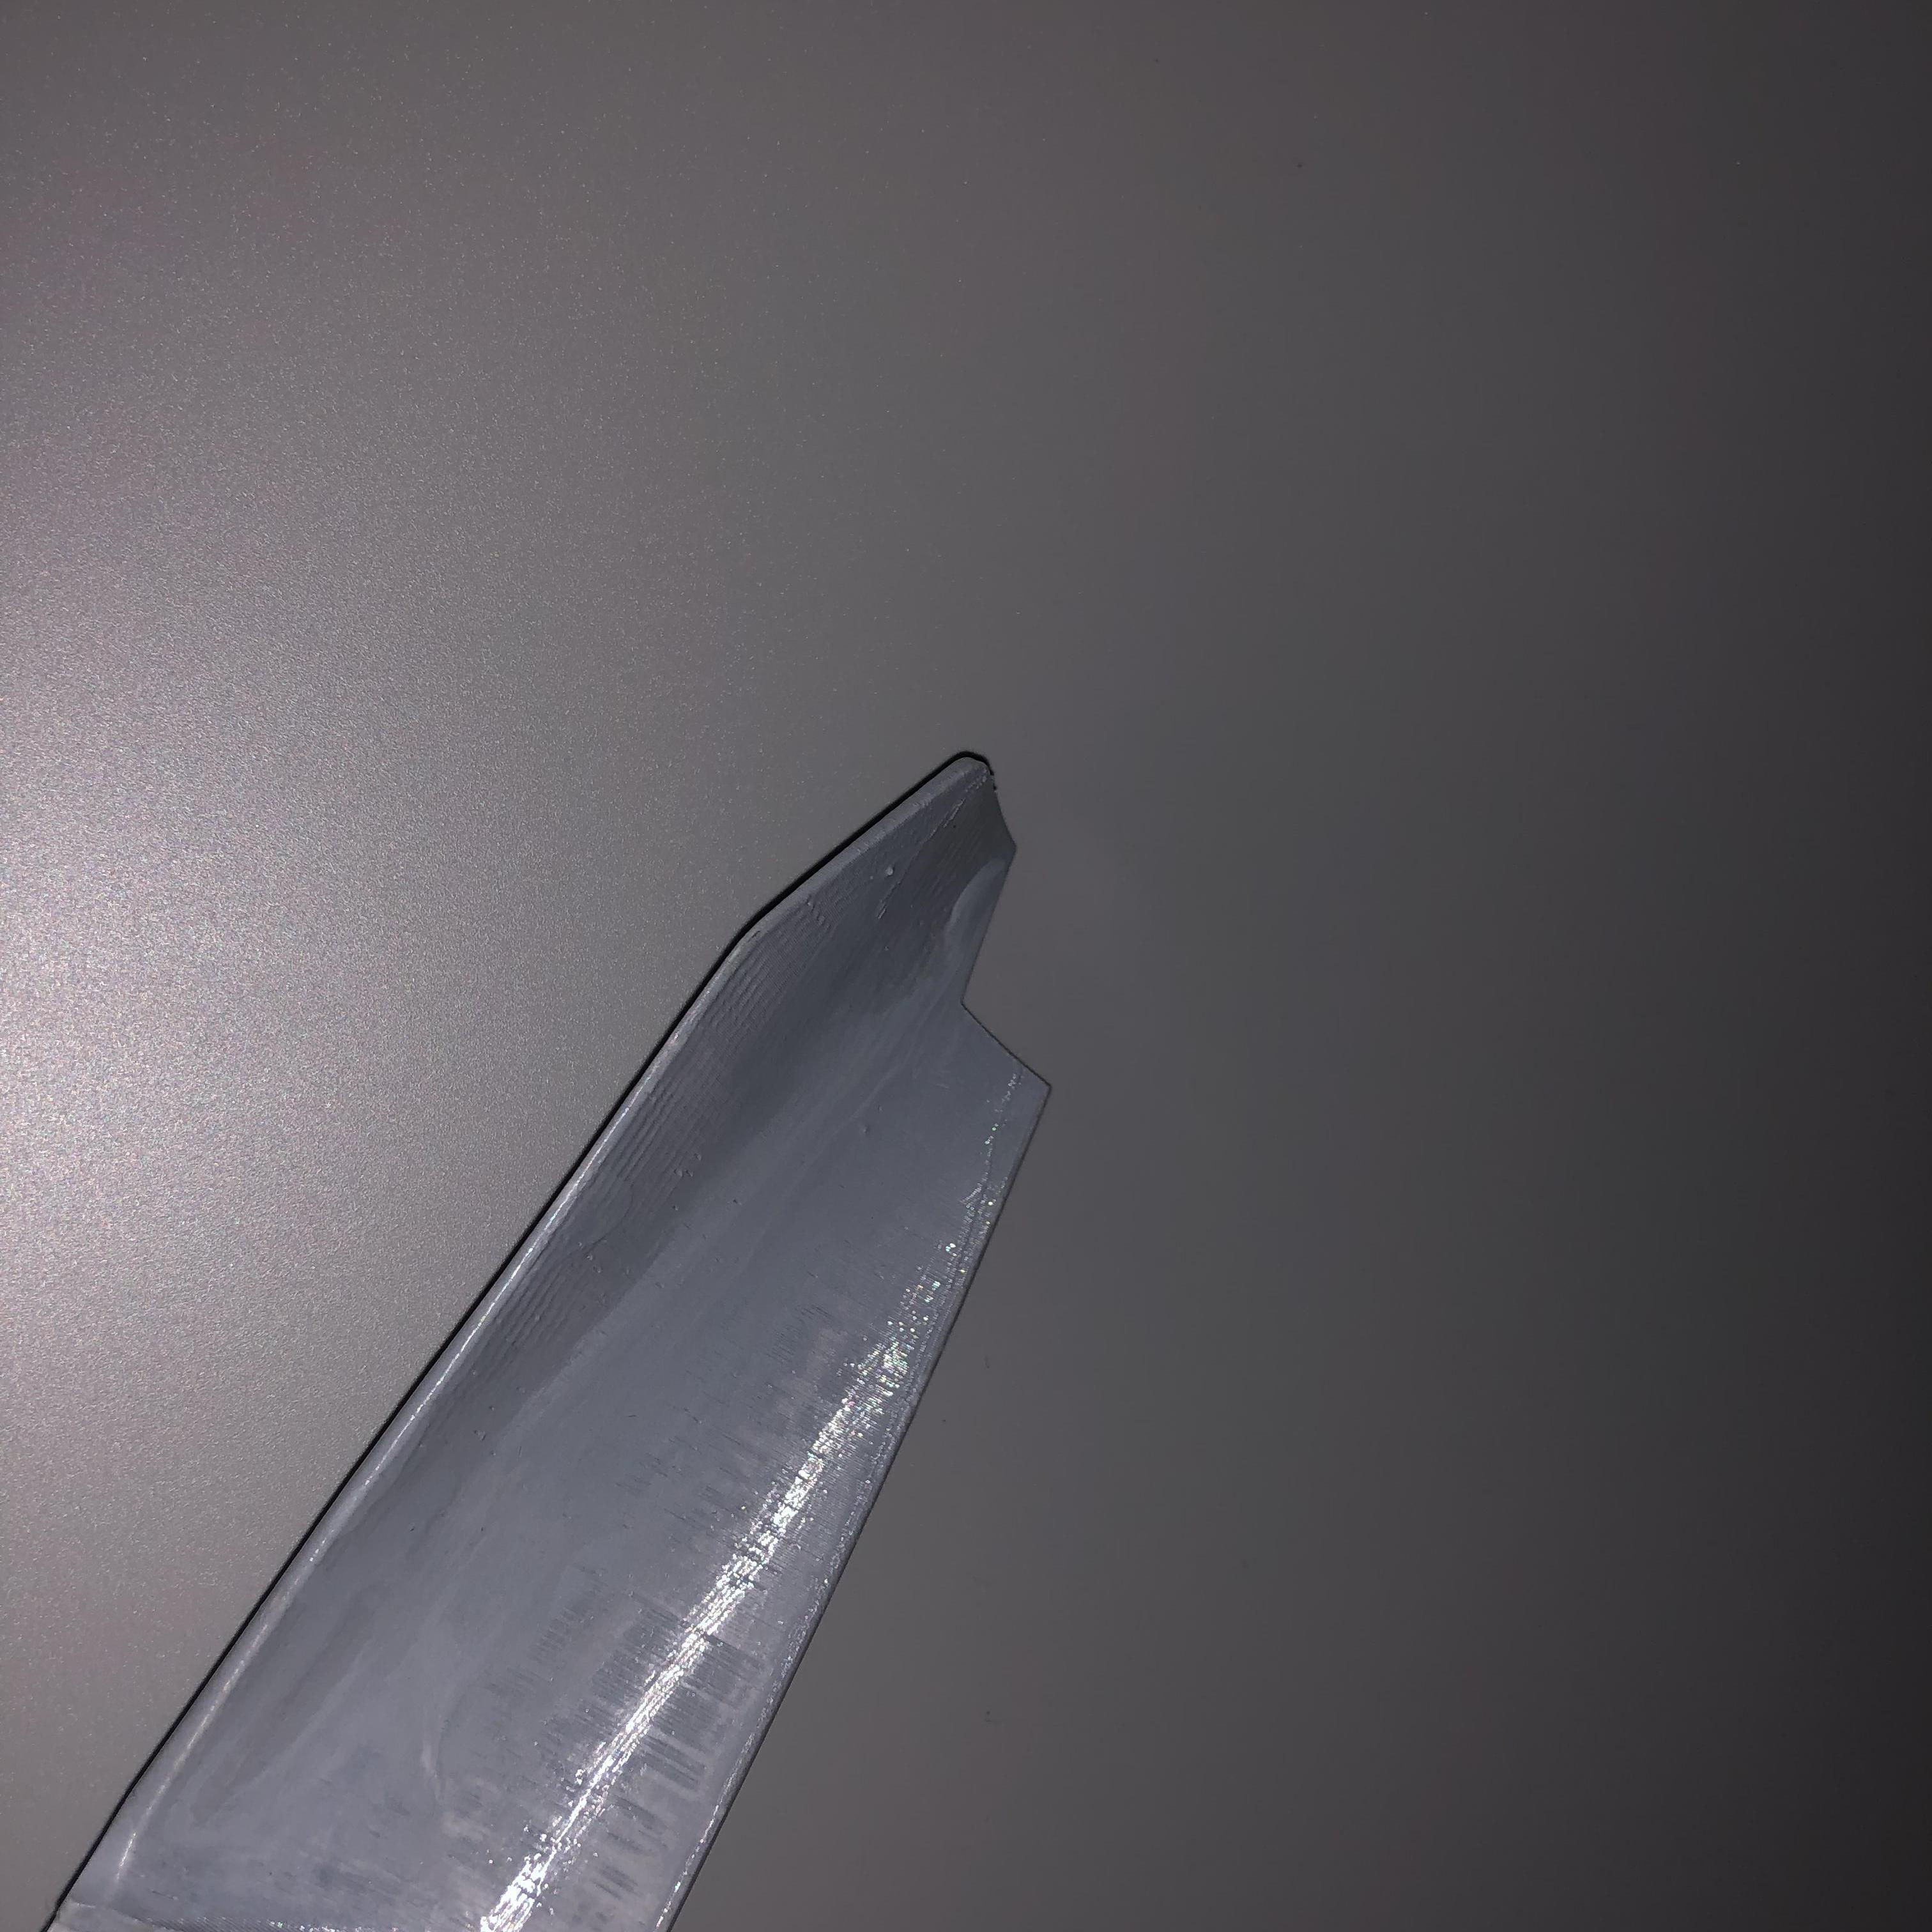fracture: (947, 839, 1079, 1097)
